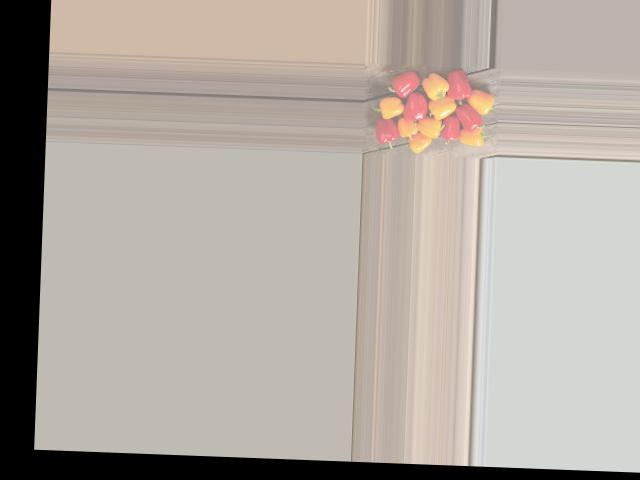bell_pepper: (459, 84, 496, 115)
